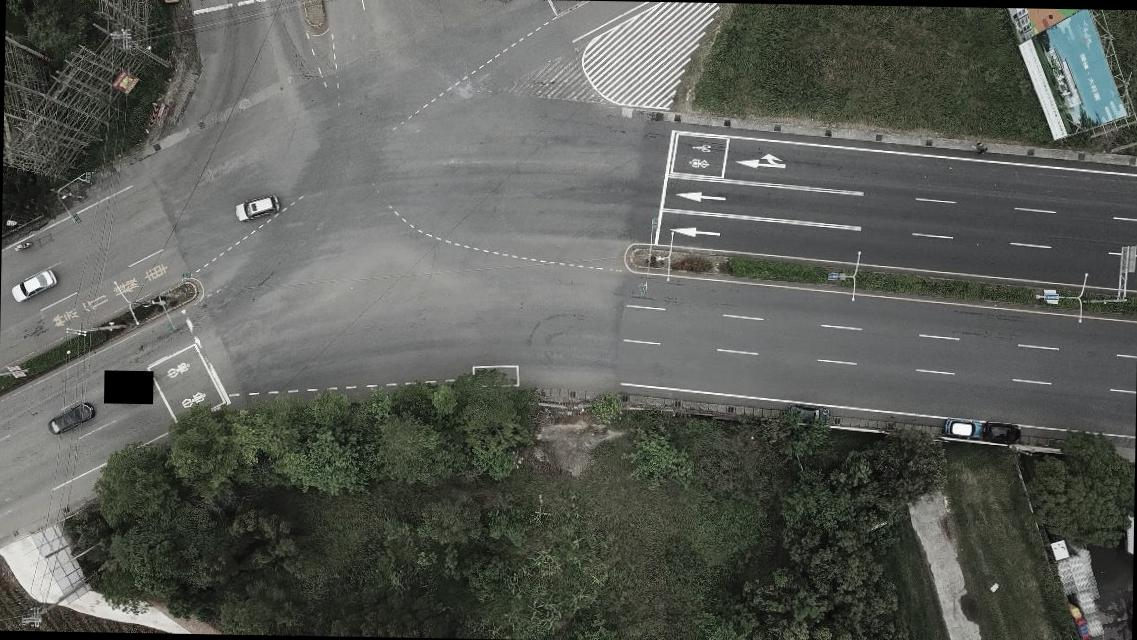vehicle: (11, 266, 57, 303), (48, 400, 94, 435), (233, 193, 282, 223), (982, 422, 1023, 444), (944, 418, 982, 441)
